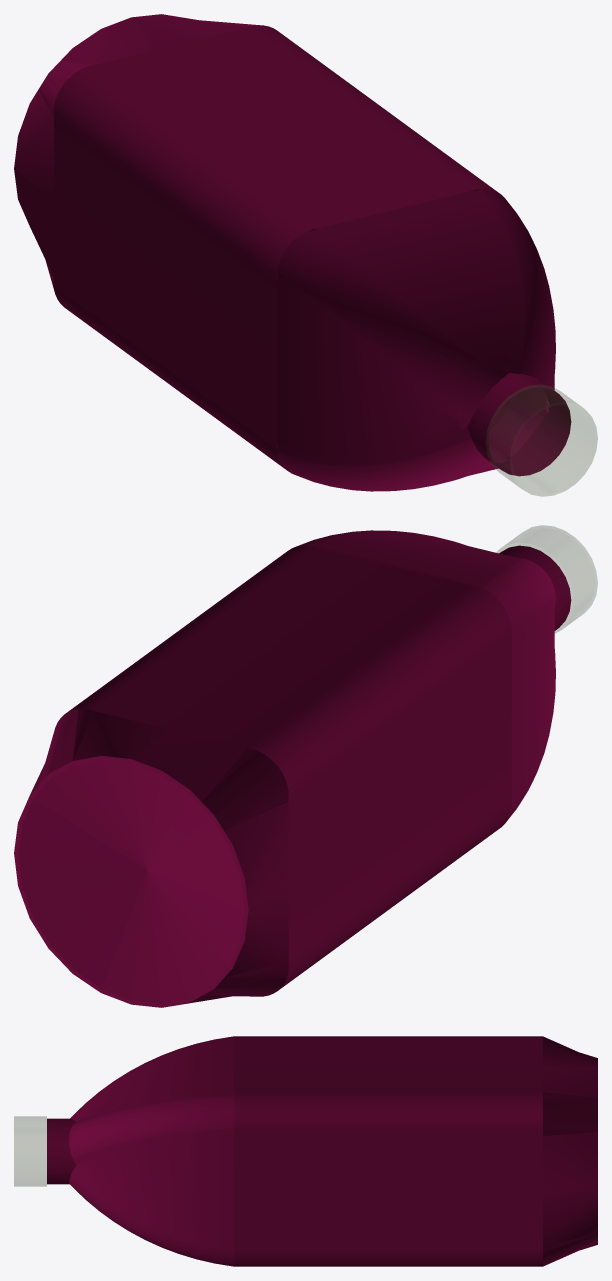
File: model_align.obj
3 views of the same model, one above another, from view 1: azimuth 30°, elevation 25°; view 2: azimuth 150°, elevation 25°; view 3: azimuth 270°, elevation 25° (orthographic). The views are drawn at different scales.
Visible parts, largest first — view 1: mesh2_mesh2-geometry, mesh1_mesh1-geometry; view 2: mesh2_mesh2-geometry, mesh1_mesh1-geometry; view 3: mesh2_mesh2-geometry, mesh1_mesh1-geometry.
Part boxes in pixels (<box>): mesh2_mesh2-geometry: <box>14,14,571,491</box>; mesh1_mesh1-geometry: <box>486,384,597,496</box>; mesh2_mesh2-geometry: <box>14,530,571,1007</box>; mesh1_mesh1-geometry: <box>496,525,597,633</box>; mesh2_mesh2-geometry: <box>47,1036,597,1266</box>; mesh1_mesh1-geometry: <box>14,1116,46,1186</box>.
Bounding box in the file's own units: 0.0738 × 0.0738 × 0.2294.
